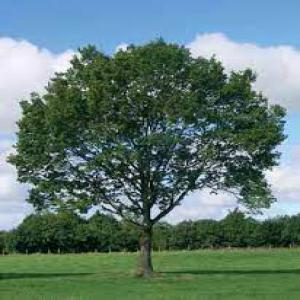Tree: (0, 36, 289, 279)
